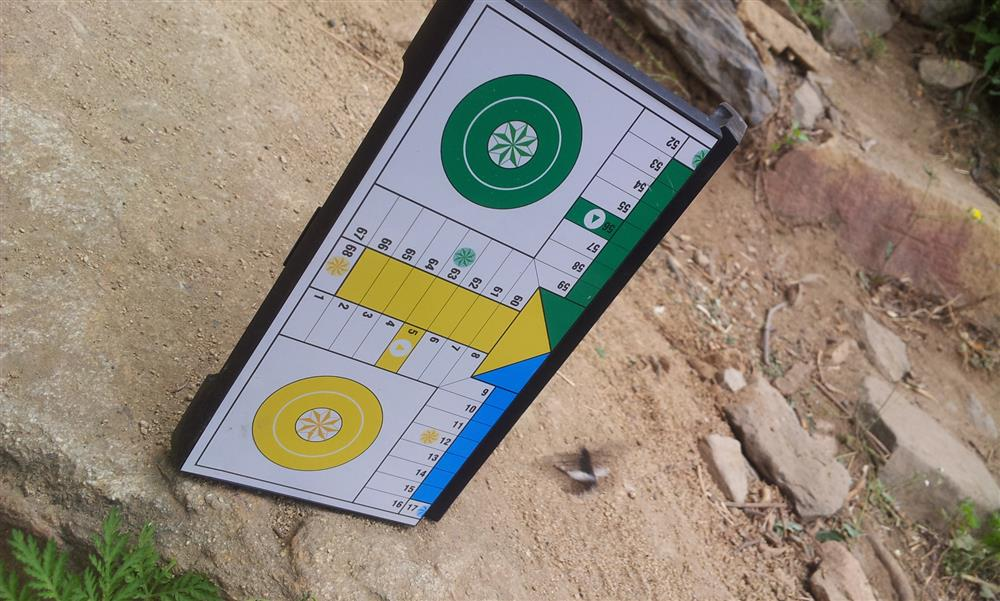parchis: (135, 3, 744, 541)
